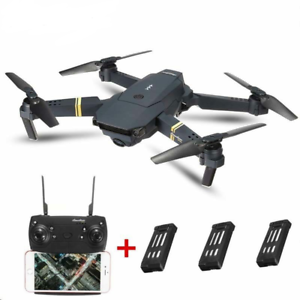drone: (3, 48, 298, 191)
